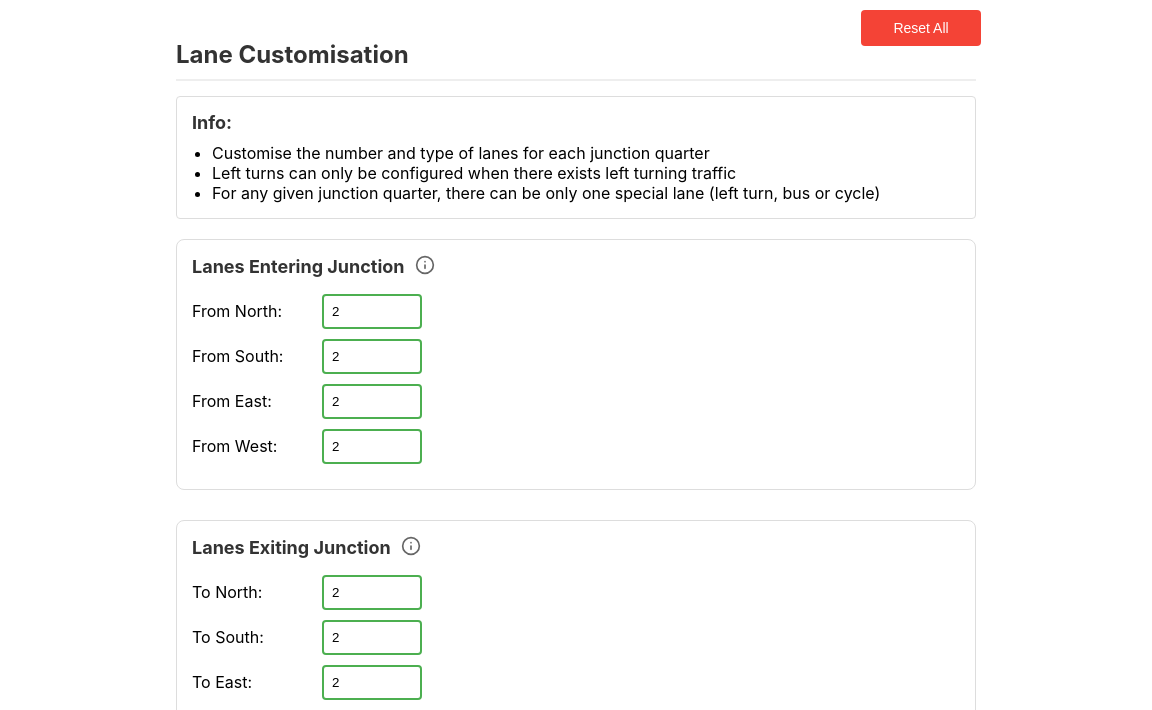
LaneCustomisation Component › Special Lane Configuration › Special lane checkbox is disabled when there is left-turning traffic
Note: Set lane configuration
Replace the text in the number field labelled "From North:" with "3" at (372, 311), box [322,294,422,329]
(page scrolled)
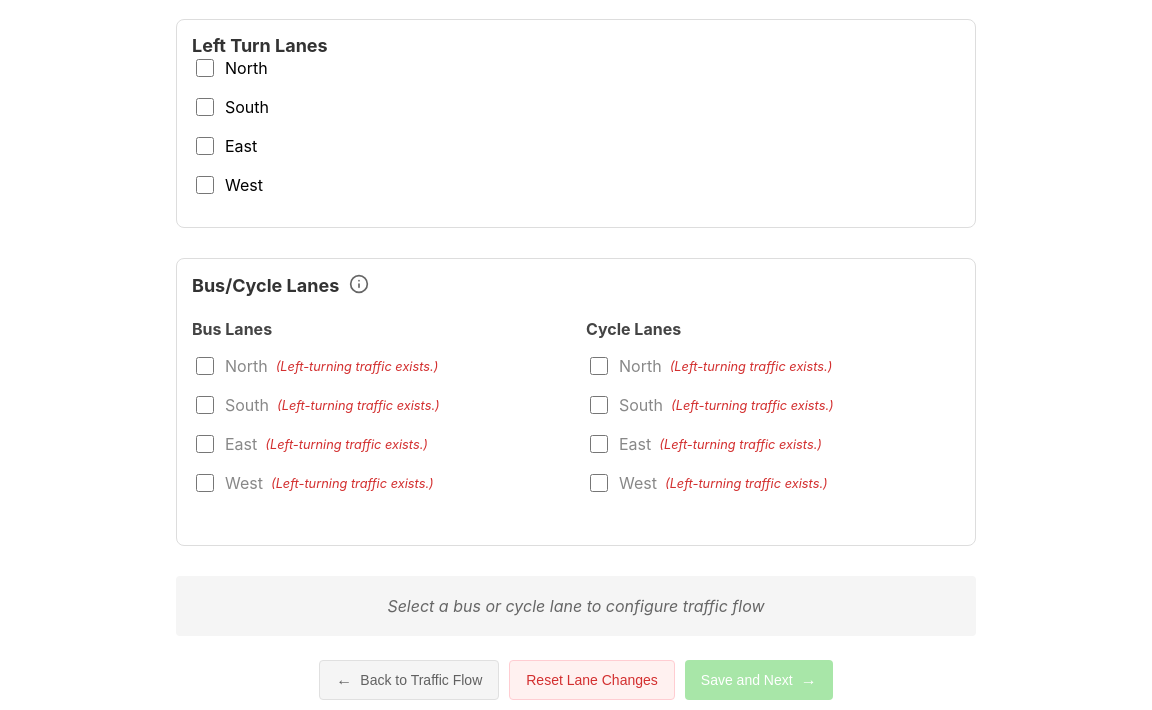
Note: Click on the checkbox (not the text)
Click the checkbox labelled "North (Left-turning traffic exists.)" below "Bus Lanes" at (205, 366), box [196,357,214,375]
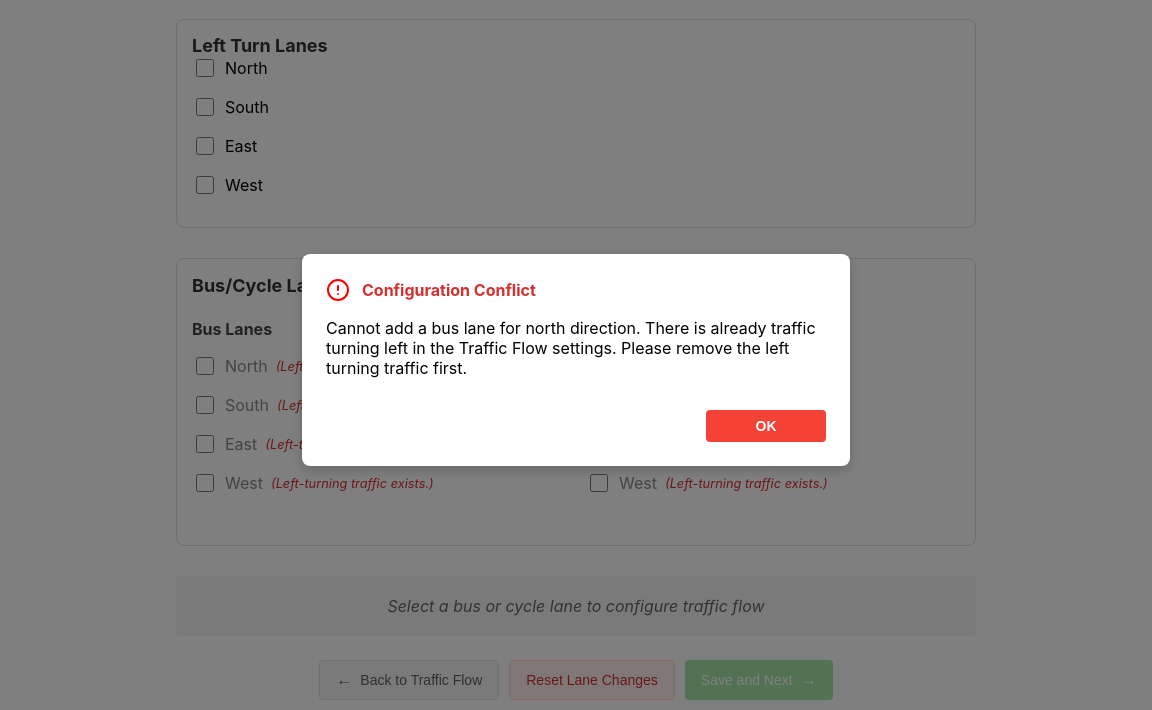
Now the text "Cannot add a bus lane for north direction" is shown, box [326,318,816,378]
